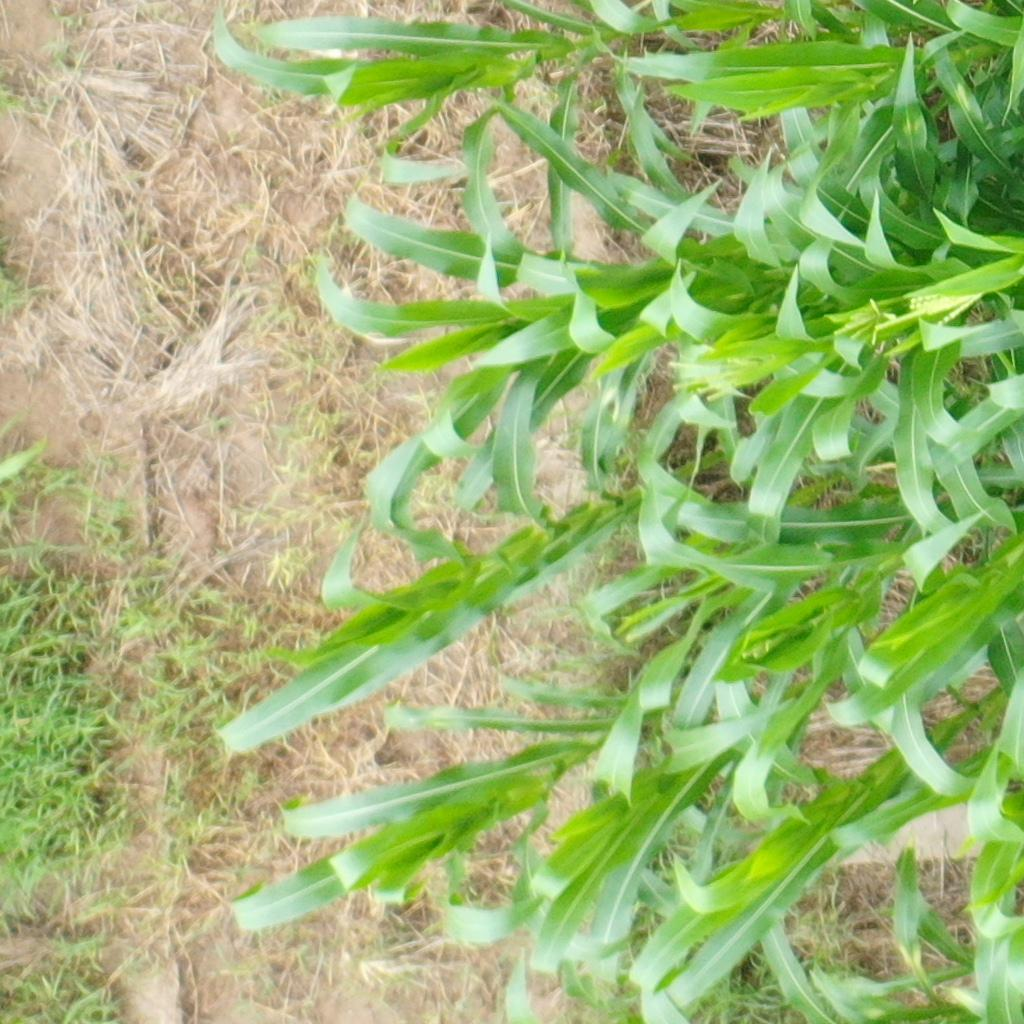Tassel: (833, 288, 983, 346), (670, 351, 752, 404)
